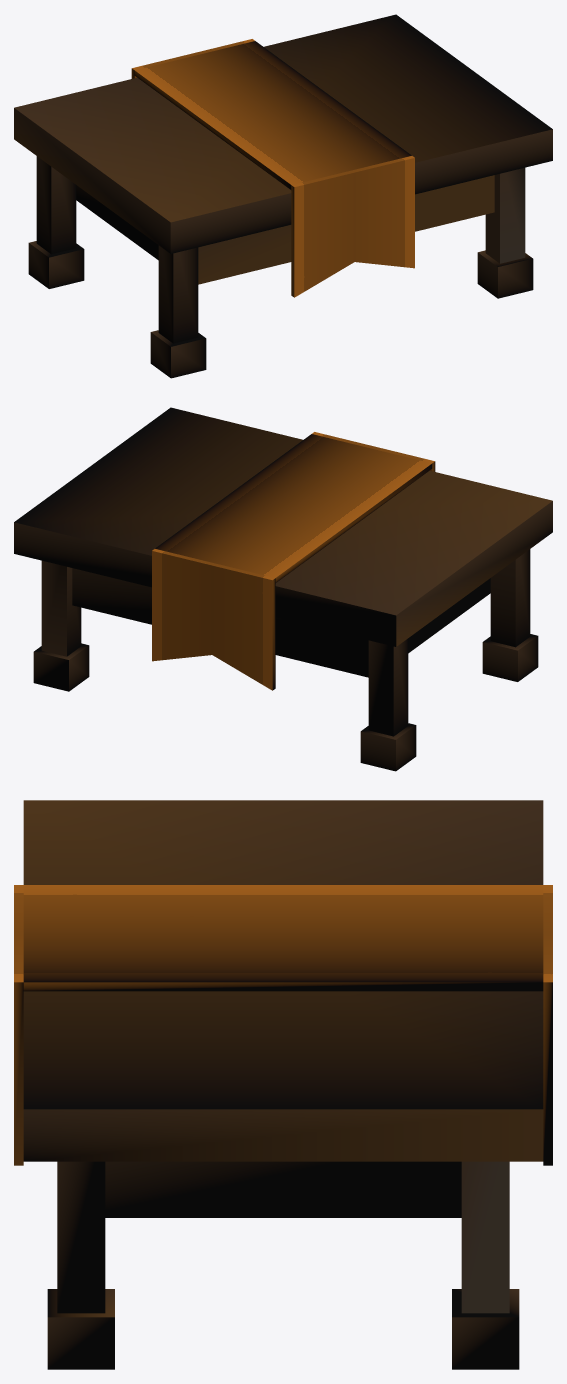
File: workbench_table.gltf
3 renders of one model, top to bottom at view 1: azimuth 30°, elevation 25°; view 2: azimuth 150°, elevation 25°; view 3: azimuth 270°, elevation 25°, orthographic. The views are drawn at different scales.
Visible parts, largest first — view 1: WorkbenchTable; view 2: WorkbenchTable; view 3: WorkbenchTable.
Boxes of the visible parts, x1=… form: WorkbenchTable: x1=14, y1=14, x2=552, y2=378; WorkbenchTable: x1=14, y1=407, x2=552, y2=771; WorkbenchTable: x1=14, y1=800, x2=552, y2=1369.
Size of the model in its own units: 2.46 by 1.05 by 1.81.
1 material, 1 textured.
